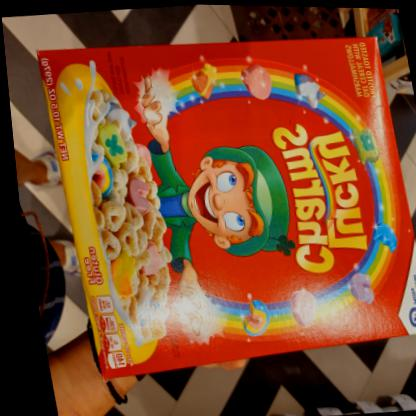i: (21, 6, 415, 390)
